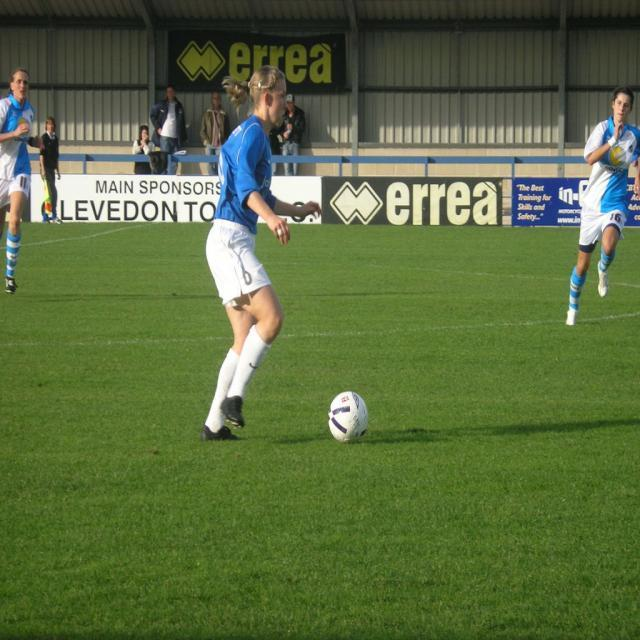football: (324, 387, 374, 443)
